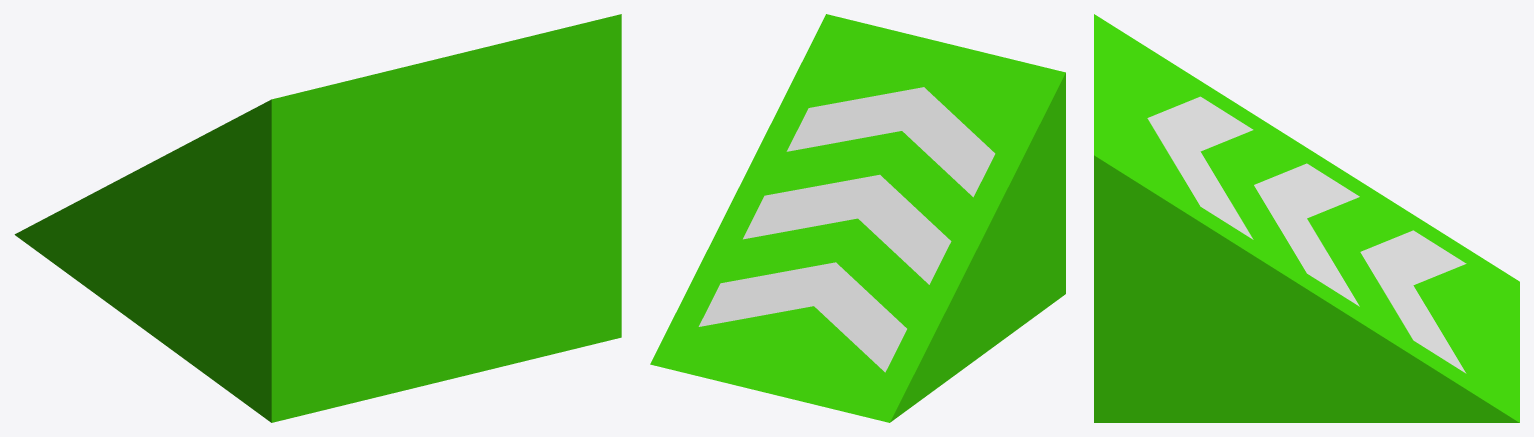
File: Tramplin.fbx
The picture shows the model from 3 angles, left to right: view 1: azimuth 30°, elevation 25°; view 2: azimuth 150°, elevation 25°; view 3: azimuth 270°, elevation 25°; orthographic projection. The views are drawn at different scales.
Visible parts, largest first — view 1: Cube.004; view 2: Cube.004; view 3: Cube.004.
Part boxes in pixels (left/top/right/bottom): Cube.004: left=14, top=14, right=621, bottom=422; Cube.004: left=650, top=14, right=1065, bottom=422; Cube.004: left=1094, top=14, right=1519, bottom=422.
Size of the model in its own units: 96.26 by 84.99 by 123.
